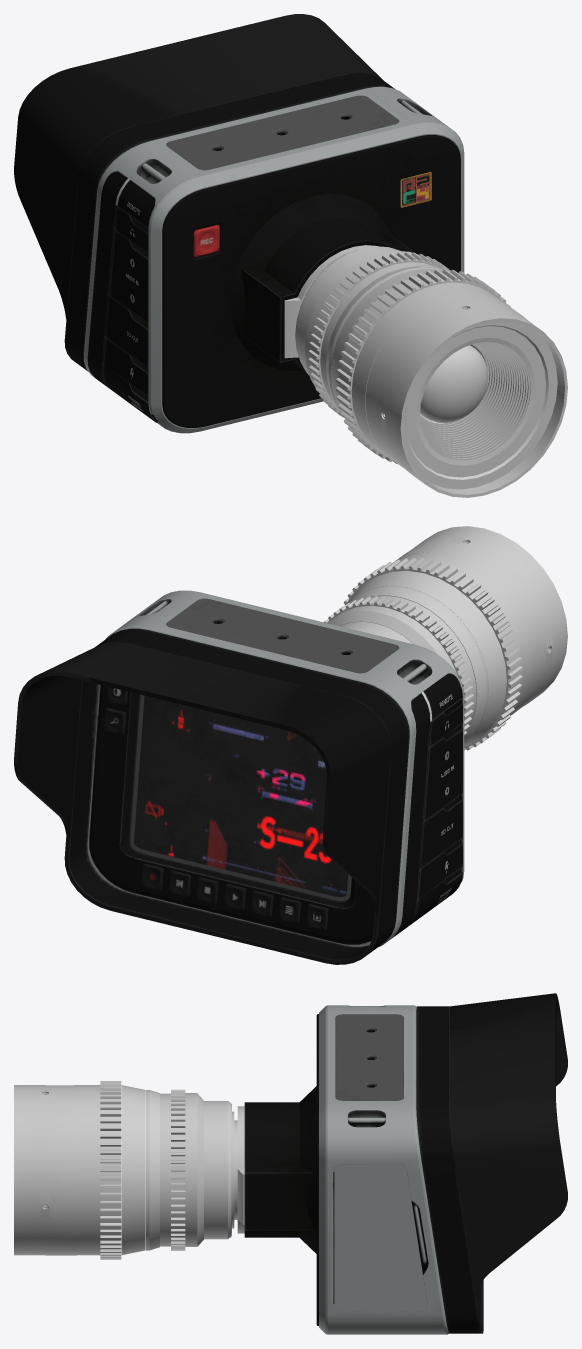
3 renders of one model, top to bottom at view 1: azimuth 30°, elevation 25°; view 2: azimuth 150°, elevation 25°; view 3: azimuth 270°, elevation 25°, orthographic. The views are drawn at different scales.
Visible parts, largest first — view 1: body.019_low_18, case_2_low_27, lenses_low_40, body.001_low_41, case_1_low_26, body.022_low_21, lenses.002_low_29, lenses.010_low_37, lenses.003_low_30, body.006_low_5, lenses.006_low_33, body.010_low_9 (+12 smaller); view 2: case_2_low_27, body.004_low_3, case_1_low_26, body.002_low_1, body.001_low_41, lenses_low_40, body.022_low_21, lenses.001_low_28, lenses.002_low_29, body.005_low_4, body.006_low_5, lenses.004_low_31 (+13 smaller); view 3: case_2_low_27, body.001_low_41, body.020_low_19, case_1_low_26, body.019_low_18, lenses_low_40, body.022_low_21, lenses.003_low_30, lenses.001_low_28, lenses.002_low_29, lenses.008_low_35, lenses.007_low_34 (+5 smaller).
Part boxes in pixels (bbox=[...]): body.019_low_18: bbox=[162, 135, 460, 427]; case_2_low_27: bbox=[14, 14, 383, 318]; lenses_low_40: bbox=[365, 292, 567, 497]; body.001_low_41: bbox=[84, 86, 464, 433]; case_1_low_26: bbox=[64, 73, 394, 371]; body.022_low_21: bbox=[166, 95, 399, 170]; lenses.002_low_29: bbox=[335, 269, 510, 464]; lenses.010_low_37: bbox=[420, 345, 487, 423]; lenses.003_low_30: bbox=[351, 282, 503, 458]; body.006_low_5: bbox=[87, 171, 127, 387]; lenses.006_low_33: bbox=[308, 252, 450, 417]; body.010_low_9: bbox=[109, 230, 148, 323]; case_2_low_27: bbox=[14, 642, 390, 910]; body.004_low_3: bbox=[134, 695, 348, 896]; case_1_low_26: bbox=[64, 628, 409, 964]; body.002_low_1: bbox=[89, 685, 374, 944]; body.001_low_41: bbox=[87, 590, 464, 946]; lenses_low_40: bbox=[397, 526, 567, 715]; body.022_low_21: bbox=[166, 598, 399, 673]; lenses.001_low_28: bbox=[348, 570, 506, 746]; lenses.002_low_29: bbox=[344, 557, 522, 750]; body.005_low_4: bbox=[141, 863, 328, 930]; body.006_low_5: bbox=[394, 693, 430, 936]; lenses.004_low_31: bbox=[349, 585, 488, 743]; case_2_low_27: bbox=[449, 993, 567, 1294]; body.001_low_41: bbox=[319, 1005, 448, 1334]; body.020_low_19: bbox=[334, 1164, 427, 1311]; case_1_low_26: bbox=[416, 1006, 483, 1333]; body.019_low_18: bbox=[244, 1014, 318, 1325]; lenses_low_40: bbox=[14, 1085, 76, 1255]; body.022_low_21: bbox=[335, 1014, 403, 1100]; lenses.003_low_30: bbox=[77, 1085, 100, 1255]; lenses.001_low_28: bbox=[121, 1085, 144, 1255]; lenses.002_low_29: bbox=[100, 1081, 121, 1259]; lenses.008_low_35: bbox=[204, 1101, 230, 1239]; lenses.007_low_34: bbox=[185, 1093, 203, 1246].
Size of what is drawn, in the model's own units: 2 by 1.65 by 3.45.
